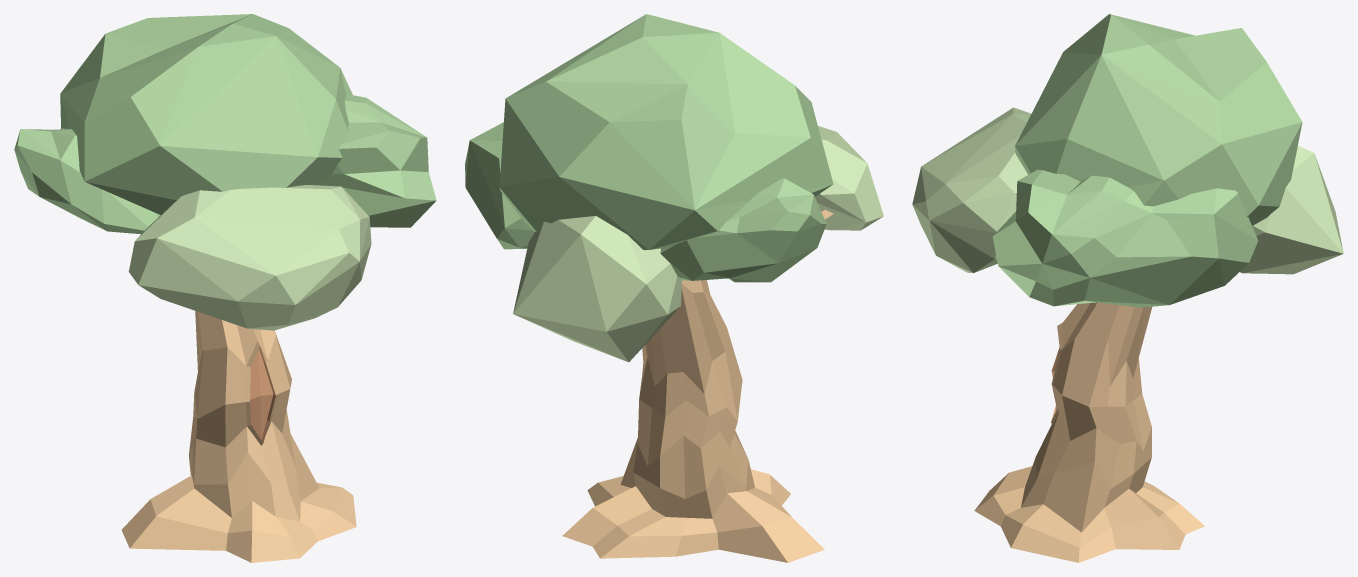
Rendered from Tree 1.fbx.
The picture shows the model from 3 angles, left to right: view 1: azimuth 30°, elevation 25°; view 2: azimuth 150°, elevation 25°; view 3: azimuth 270°, elevation 25°; orthographic projection. The views are drawn at different scales.
Visible parts, largest first — view 1: Tree 1; view 2: Tree 1; view 3: Tree 1.
Part boxes in pixels (<box>): Tree 1: <box>14,14,436,562</box>; Tree 1: <box>465,14,883,562</box>; Tree 1: <box>912,14,1343,562</box>.
Bounding box in the file's own units: 183 × 244 × 199.
